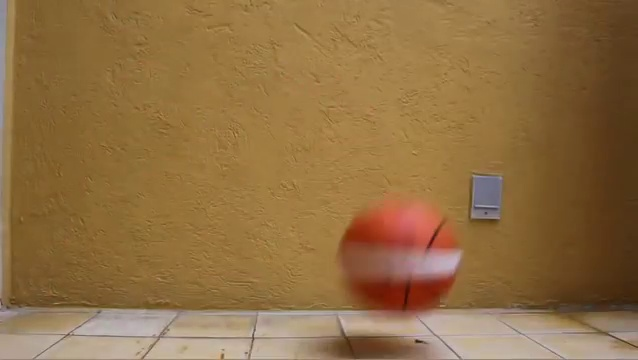ball: (338, 196, 462, 318)
